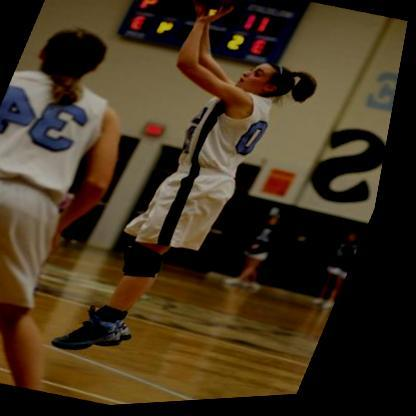basketball: (184, 0, 249, 18)
